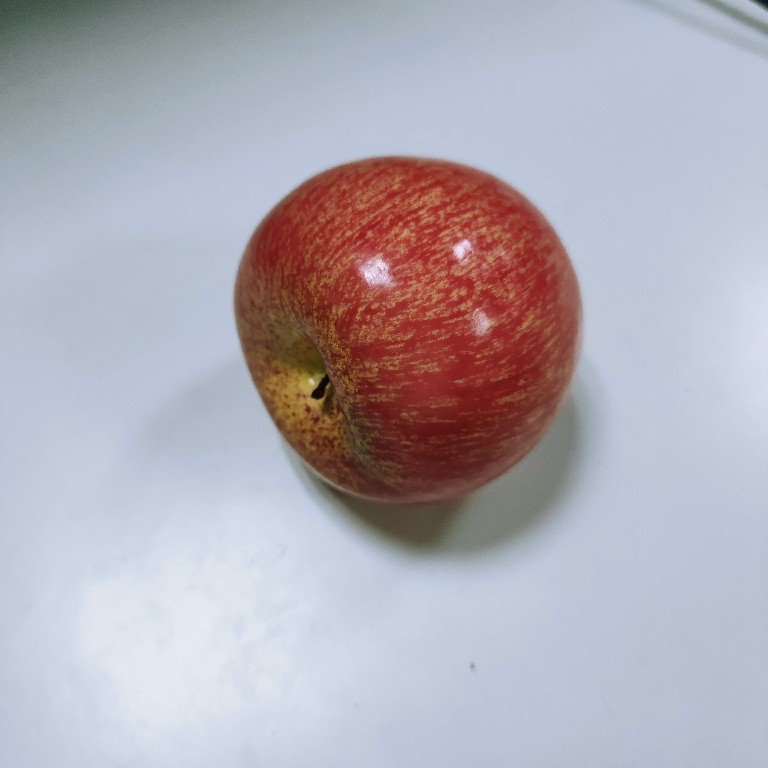fruit_apple: (225, 152, 590, 510)
